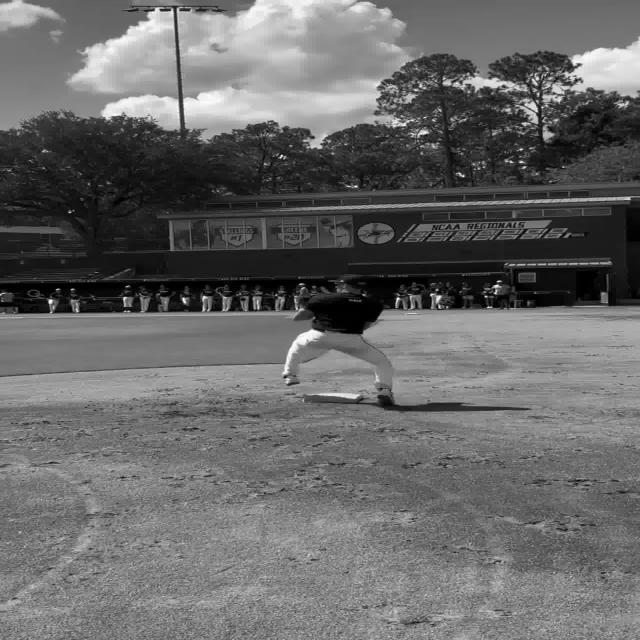base: (305, 392, 362, 404)
shoe: (376, 390, 396, 408), (282, 375, 300, 385)
